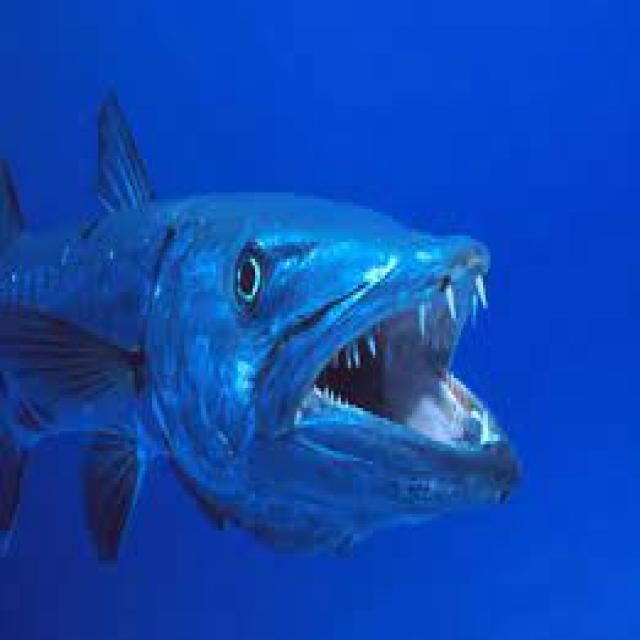Barracuda: (2, 80, 525, 570)
